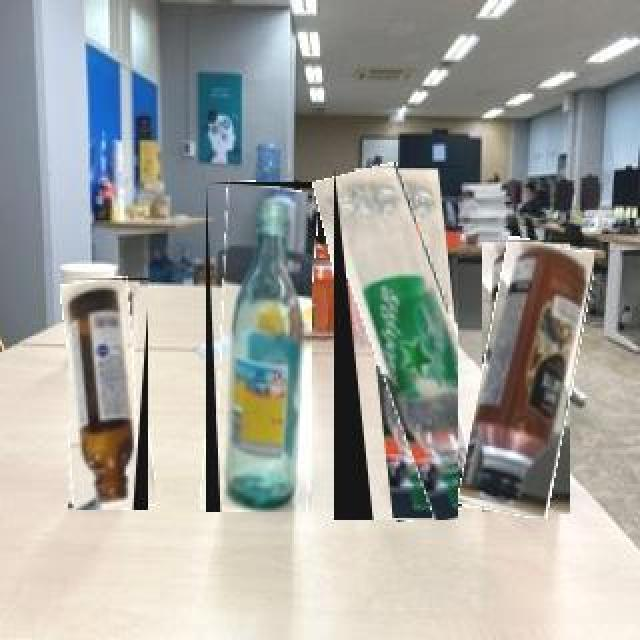bottle: (334, 166, 460, 522), (206, 182, 314, 514), (470, 239, 584, 517), (68, 278, 150, 512)
